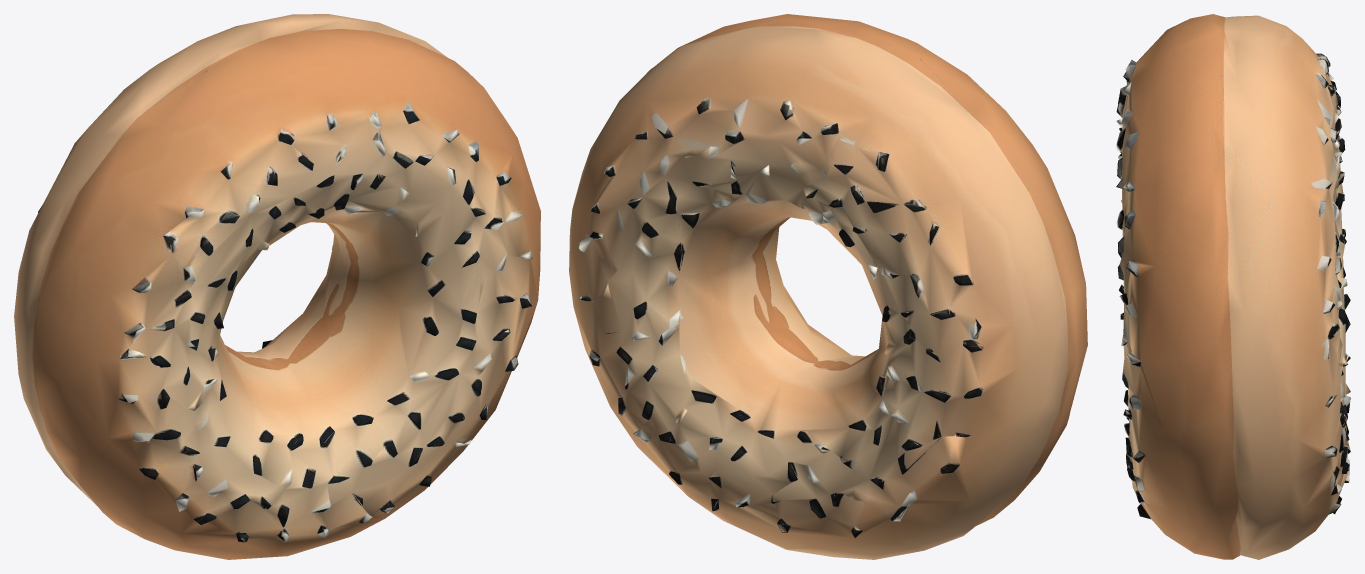
The model's file is ring_sesame.glb.
The picture shows the model from 3 angles, left to right: view 1: azimuth 30°, elevation 25°; view 2: azimuth 150°, elevation 25°; view 3: azimuth 270°, elevation 25°; orthographic projection. The views are drawn at different scales.
Parts seen in each view (by area): view 1: Mesh_0; view 2: Mesh_0; view 3: Mesh_0.
Boxes of the visible parts, box(x1,y1,x2,y2) form: Mesh_0: box(14, 14, 540, 559); Mesh_0: box(569, 14, 1087, 559); Mesh_0: box(1116, 14, 1350, 559).
Bounding box in the file's own units: 3.09 × 3.09 × 1.32.
1 material, 1 textured.
